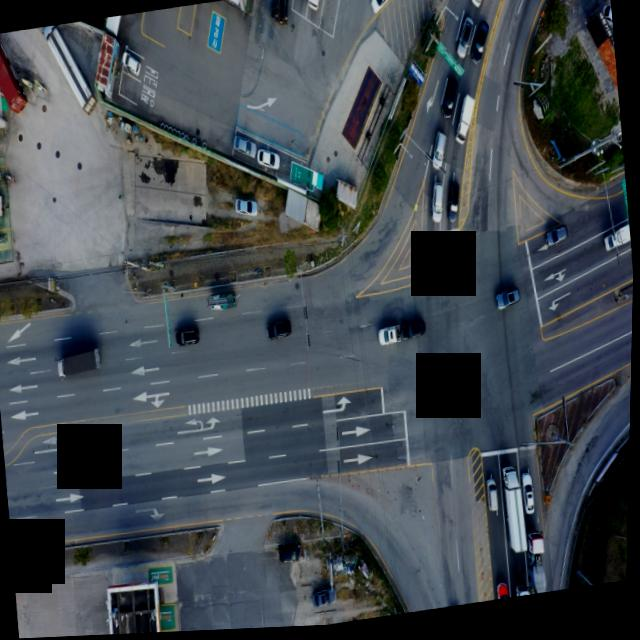car: (452, 17, 476, 62), (445, 175, 465, 224), (438, 77, 460, 120), (468, 24, 489, 66), (427, 131, 447, 173), (428, 184, 447, 227), (232, 130, 257, 159), (120, 46, 142, 76), (522, 475, 537, 517), (255, 147, 279, 173), (401, 320, 428, 343), (485, 477, 500, 518), (235, 195, 259, 219), (266, 319, 292, 341), (278, 544, 304, 566), (494, 291, 519, 313), (173, 325, 199, 346), (312, 588, 337, 609), (543, 229, 568, 249), (377, 328, 402, 347), (366, 0, 392, 14), (499, 585, 511, 604)
medium_truck: (40, 22, 95, 121), (499, 470, 528, 561), (53, 343, 102, 378), (525, 538, 547, 599), (267, 0, 289, 28), (516, 588, 531, 602)
small_bus: (305, 0, 325, 13)
small_truck: (451, 96, 479, 150), (601, 225, 633, 255), (61, 459, 89, 482), (209, 290, 237, 312), (462, 0, 495, 17)
